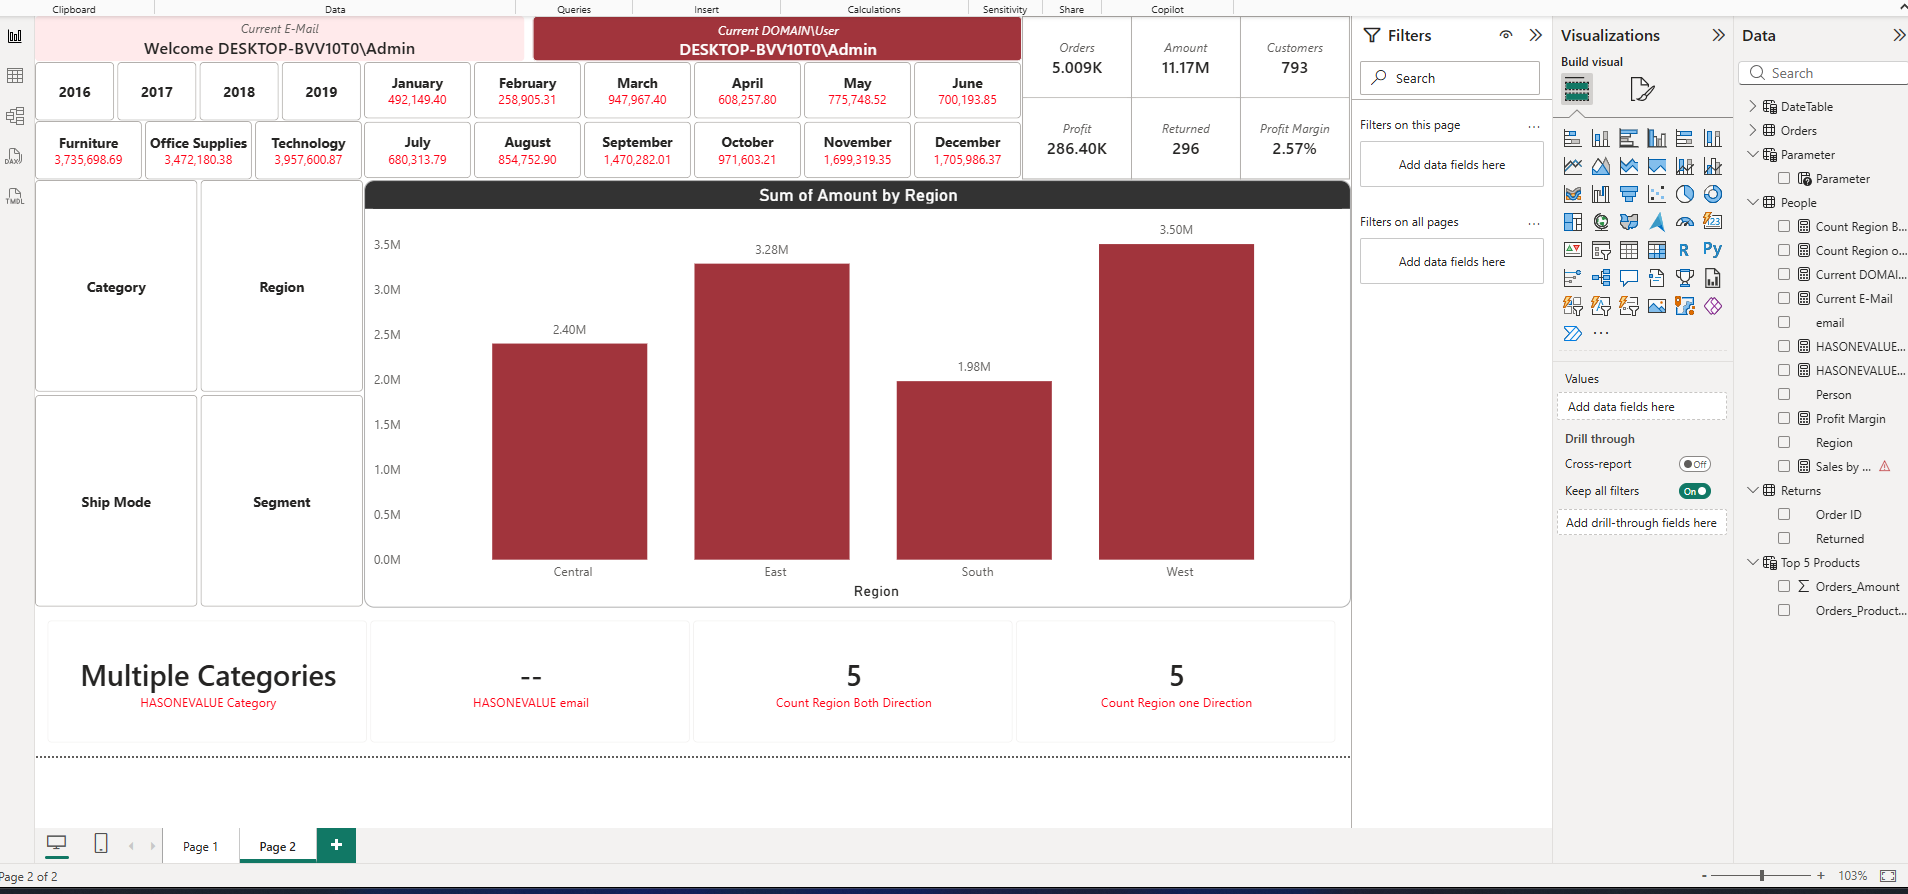

The page's visual inventory and layout, read from the dashboard file:
{"tool":"powerbi","page":{"name":"Page 2","canvas":[1280,720],"ordinal":1},"visuals":[{"type":"cardVisual","fields":{"Data":["People.Measure","People.HASONEVALUE 2","People.Returns Both Direction","People.Returns one Direction"]},"box":[0,575.8,1280,144],"z":0},{"type":"cardVisual","fields":{"Data":["People.Current E-Mail","People.Current DOMAIN\\User"]},"box":[0,0,960,44.7],"z":1000},{"type":"advancedSlicerVisual","fields":{"Label":["Sum(Orders.Amount)"],"Values":["Orders.Order Date.Variation.Date Hierarchy.Month"]},"box":[320,44.7,640,114.8],"z":2000},{"type":"advancedSlicerVisual","fields":{"Values":["Orders.Order Date.Variation.Date Hierarchy.Year"]},"box":[0,44.7,320,57.4],"z":3000},{"type":"advancedSlicerVisual","fields":{"Values":["Orders.Category"],"Label":["Sum(Orders.Amount)"]},"box":[0,102.1,320,57.4],"z":4000},{"type":"cardVisual","fields":{"Data":["Count(Orders.Order ID)","Sum(Orders.Amount)","Count(Orders.Customer ID)","Sum(Orders.Profit)","CountNonNull(Returns.Returned)","People.Profit Margin"]},"box":[960,0,320,159.5],"z":5000},{"type":"advancedSlicerVisual","fields":{"Values":["Parameter.Parameter"]},"box":[0,159.5,320,416.3],"z":6000},{"type":"clusteredColumnChart","fields":{"Category":["Orders.Category","People.Region","Orders.Ship Mode","Orders.Segment"],"Y":["Sum(Orders.Amount)"]},"box":[320,159.5,960,416.3],"z":7000}]}

Visuals, with their boxes on the page's 1280x720 design canvas (x1, y1, x2, y2). These are canvas units, not pixel positions in the 1908x894 screenshot, which may show the page scaled, cropped or inside an application window:
cardVisual - People.Measure x People.HASONEVALUE 2: region(0, 576, 1280, 720)
cardVisual - People.Current E-Mail x People.Current DOMAIN\User: region(0, 0, 960, 45)
advancedSlicerVisual - Sum(Orders.Amount) x Orders.Order Date.Variation.Date Hierarchy.Month: region(320, 45, 960, 160)
advancedSlicerVisual - Orders.Order Date.Variation.Date Hierarchy.Year: region(0, 45, 320, 102)
advancedSlicerVisual - Orders.Category x Sum(Orders.Amount): region(0, 102, 320, 160)
cardVisual - Count(Orders.Order ID) x Sum(Orders.Amount): region(960, 0, 1280, 160)
advancedSlicerVisual - Parameter.Parameter: region(0, 160, 320, 576)
clusteredColumnChart - Orders.Category x People.Region: region(320, 160, 1280, 576)
